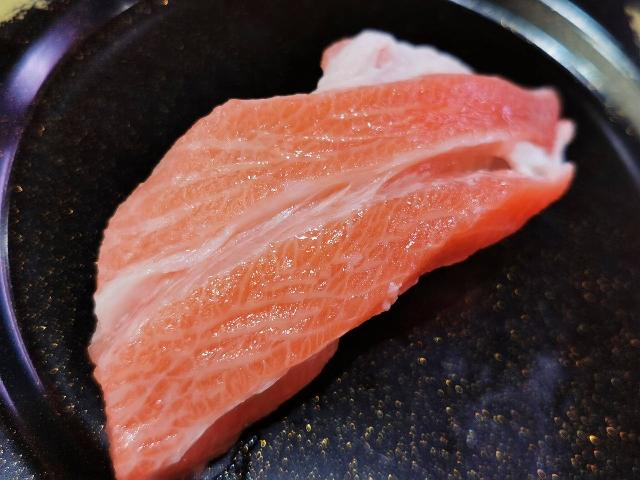janback: (404, 304, 640, 477), (0, 0, 147, 176), (0, 201, 92, 480), (147, 0, 316, 84), (582, 62, 640, 300), (471, 4, 640, 61)
